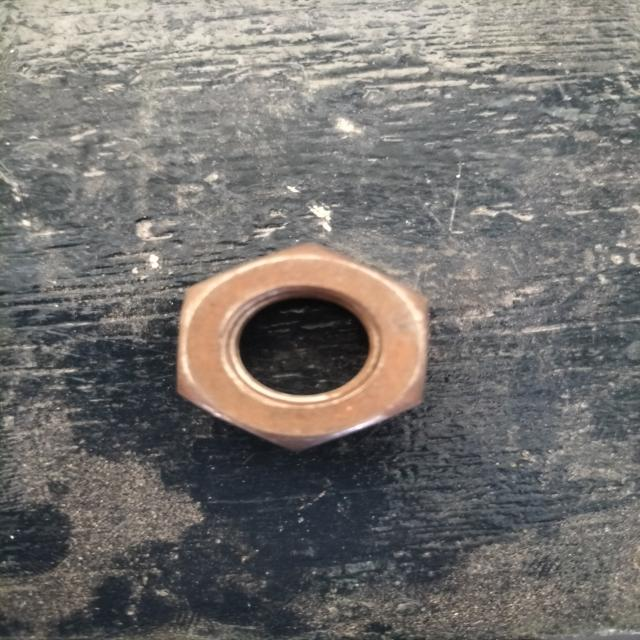nuts: (176, 242, 428, 449)
